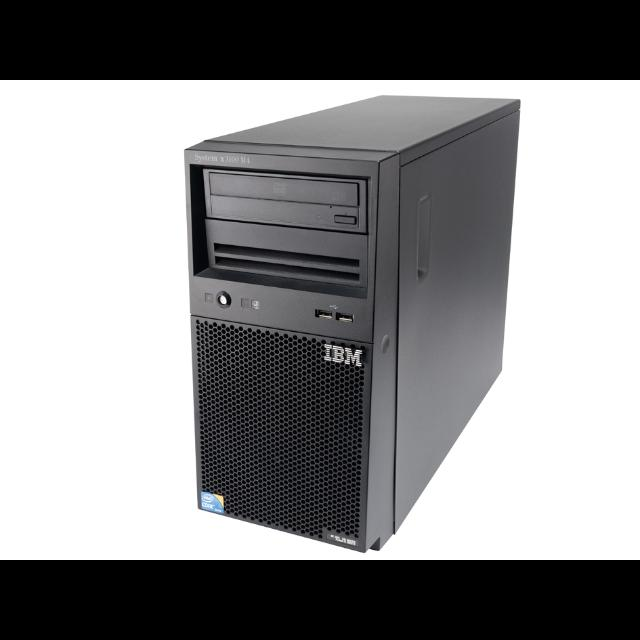Desktop-PC: (181, 91, 523, 556)
